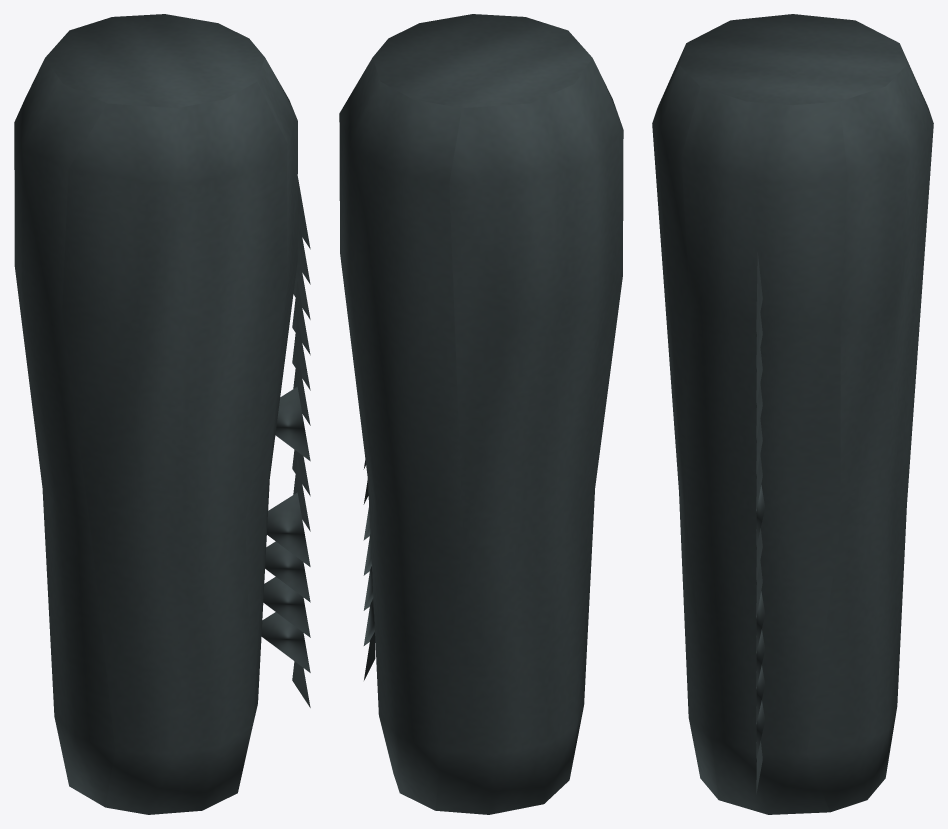
Rendered from upper_arm_l_lod1.glb.
The picture shows the model from 3 angles, left to right: view 1: azimuth 30°, elevation 25°; view 2: azimuth 150°, elevation 25°; view 3: azimuth 270°, elevation 25°; orthographic projection.
Parts seen in each view (by area): view 1: dormin_upper_arm_l_LOD1; view 2: dormin_upper_arm_l_LOD1; view 3: dormin_upper_arm_l_LOD1.
Part boxes in pixels (x1,y1,x2,y2): dormin_upper_arm_l_LOD1: (14, 14, 310, 814); dormin_upper_arm_l_LOD1: (339, 14, 623, 814); dormin_upper_arm_l_LOD1: (652, 14, 933, 814).
Size of the model in its own units: 1.62 by 4.26 by 1.51.
1 material, 1 textured.
